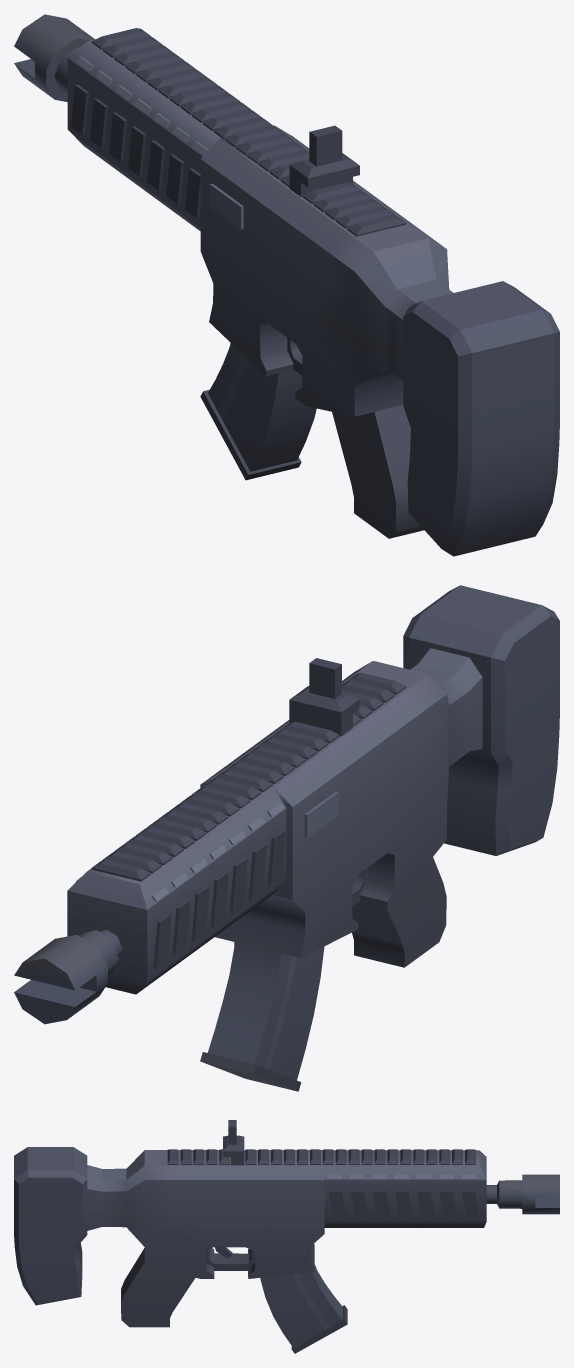
The model's file is Agent_Handheld_Gun2.fbx.
The picture shows the model from 3 angles, top to bottom: view 1: azimuth 30°, elevation 25°; view 2: azimuth 150°, elevation 25°; view 3: azimuth 270°, elevation 25°; orthographic projection. The views are drawn at different scales.
Parts seen in each view (by area): view 1: MachineGun01; view 2: MachineGun01; view 3: MachineGun01.
Part boxes in pixels (x1,y1,x2,y2): MachineGun01: (14,14,559,556); MachineGun01: (14,585,559,1091); MachineGun01: (14,1120,559,1353).
Size of the model in its own units: 0.1283 by 0.4599 by 1.02.
